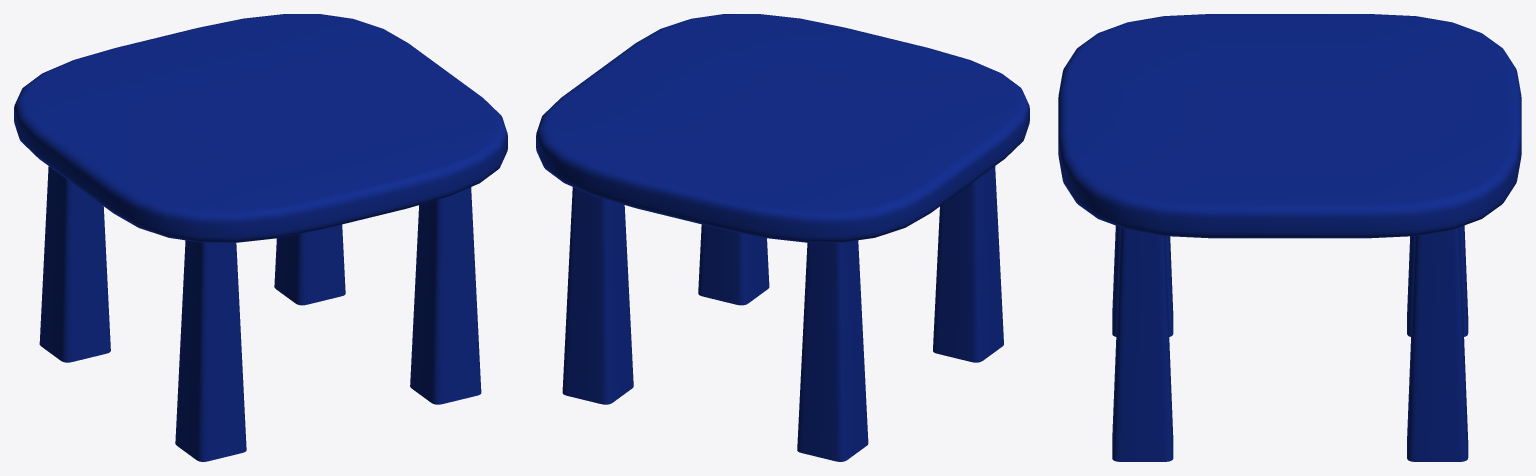
File: Play_Table_Blue.fbx
3 views of the same model, side by side, from view 1: azimuth 30°, elevation 25°; view 2: azimuth 150°, elevation 25°; view 3: azimuth 270°, elevation 25° (orthographic). The views are drawn at different scales.
Parts seen in each view (by area): view 1: Play_Table001; view 2: Play_Table001; view 3: Play_Table001.
Part boxes in pixels (x1=…): Play_Table001: x1=14, y1=14, x2=507, y2=461; Play_Table001: x1=536, y1=14, x2=1029, y2=461; Play_Table001: x1=1058, y1=14, x2=1521, y2=461.
Size of the model in its own units: 20.37 by 13.27 by 20.07.
